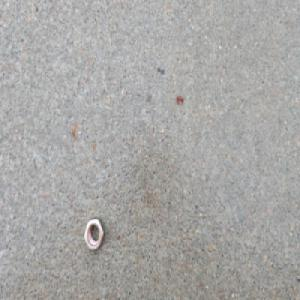Nut: (84, 218, 104, 251)
